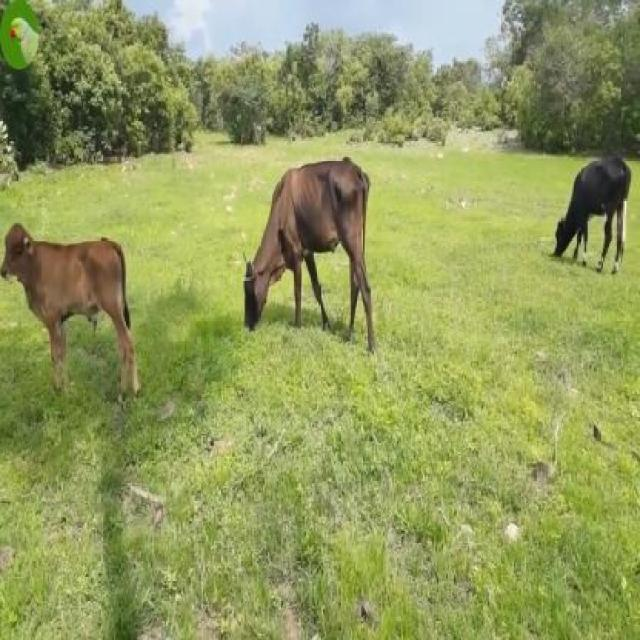Cow: (0, 223, 138, 407), (243, 154, 372, 346), (552, 151, 632, 274)
